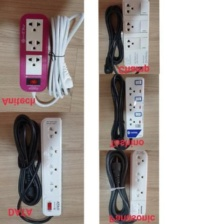three_eye_plug: (16, 12, 50, 94), (38, 115, 63, 218), (118, 0, 152, 69), (126, 149, 149, 220), (121, 75, 145, 140)
